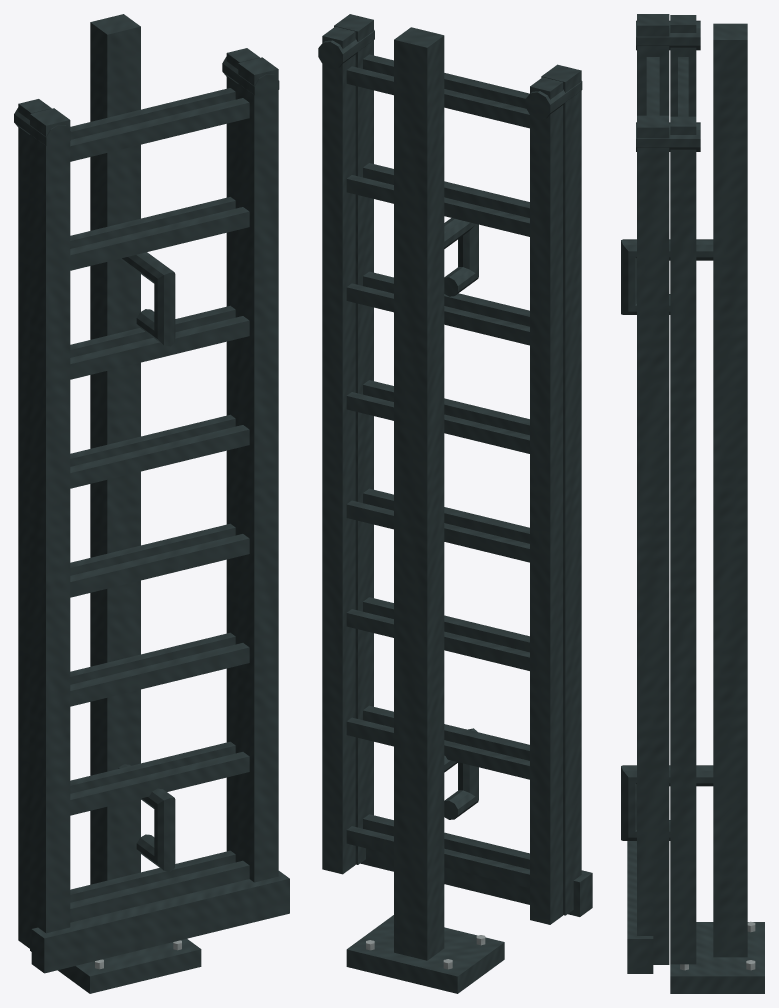
The picture shows the model from 3 angles, left to right: view 1: azimuth 30°, elevation 25°; view 2: azimuth 150°, elevation 25°; view 3: azimuth 270°, elevation 25°; orthographic projection.
Parts seen in each view (by area): view 1: B024-06_frame_iron, B024-06_base_iron; view 2: B024-06_frame_iron, B024-06_base_iron; view 3: B024-06_frame_iron, B024-06_base_iron.
Boxes of the visible parts, <box> form: B024-06_frame_iron: <box>14,14,289,973</box>; B024-06_base_iron: <box>58,939,201,993</box>; B024-06_frame_iron: <box>318,14,592,960</box>; B024-06_base_iron: <box>346,915,504,993</box>; B024-06_frame_iron: <box>621,14,747,973</box>; B024-06_base_iron: <box>670,922,764,993</box>.
Size of the model in its own units: 0.66 by 2.4 by 0.335.
2 materials, 2 textured.
